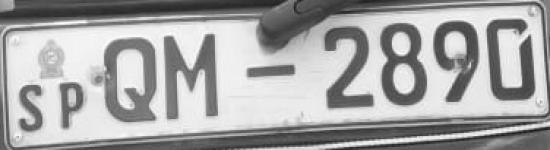-: (242, 56, 298, 90)
0: (483, 11, 538, 105)
2: (320, 21, 378, 113)
8: (377, 20, 430, 108)
9: (430, 14, 483, 110)
M: (161, 27, 222, 126)
P: (58, 79, 88, 135)
Q: (101, 31, 160, 127)
S: (14, 78, 48, 135)
